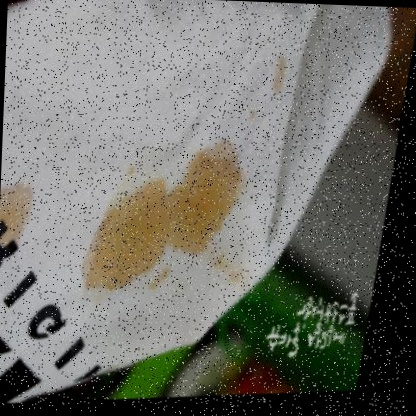coffee: (168, 151, 234, 252), (105, 194, 164, 270)
